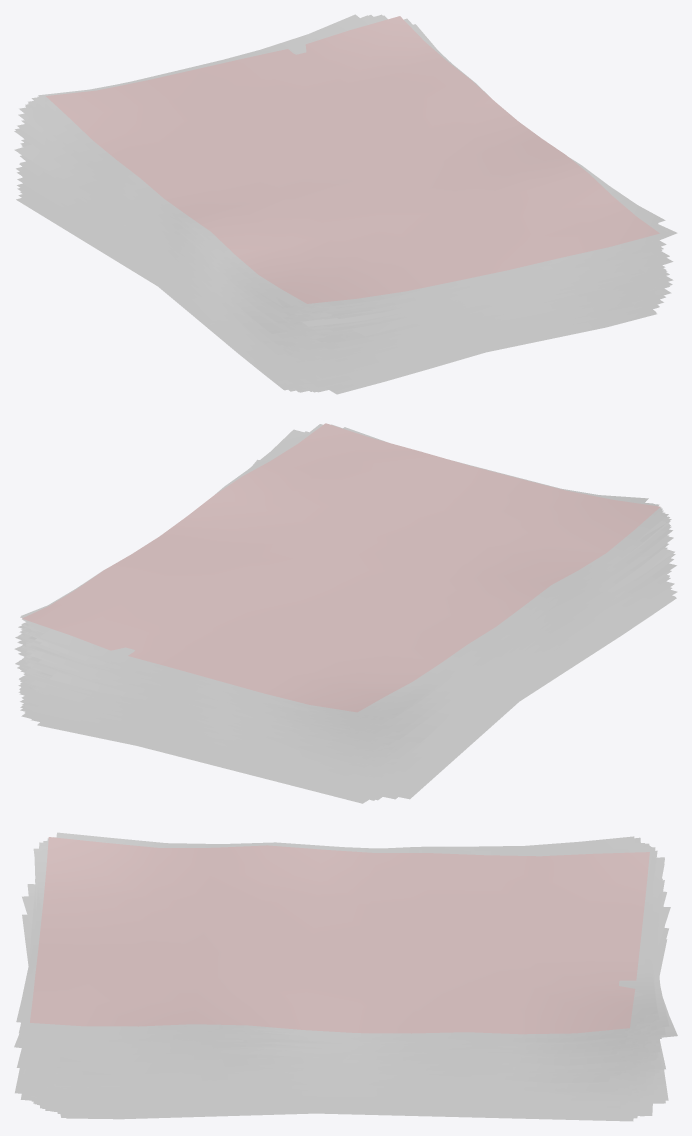
File: Paper_pile.fbx
3 renders of one model, top to bottom at view 1: azimuth 30°, elevation 25°; view 2: azimuth 150°, elevation 25°; view 3: azimuth 270°, elevation 25°, orthographic. The views are drawn at different scales.
Visible parts, largest first — view 1: Pile_7; view 2: Pile_7; view 3: Pile_7.
Part boxes in pixels (box(x1,y1,x2,y2)): Pile_7: box(14, 14, 677, 394); Pile_7: box(14, 423, 677, 803); Pile_7: box(14, 832, 677, 1121).
Bounding box in the file's own units: 25.27 × 5.19 × 32.82.
